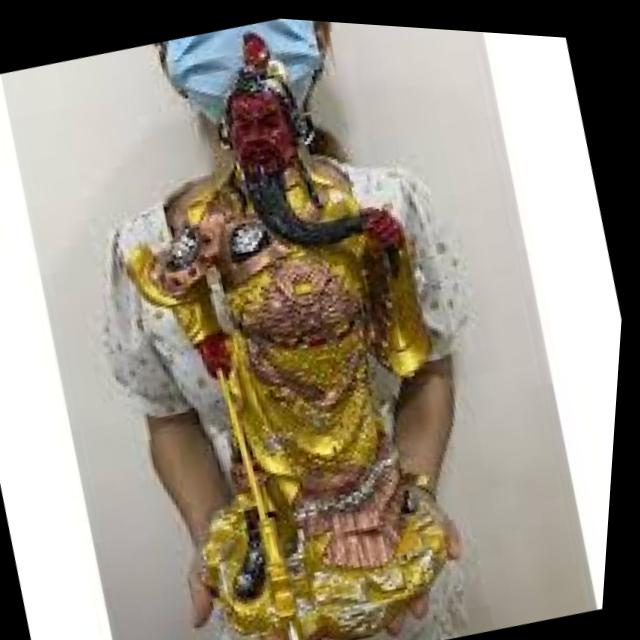Guan Yu: (122, 8, 454, 484)
